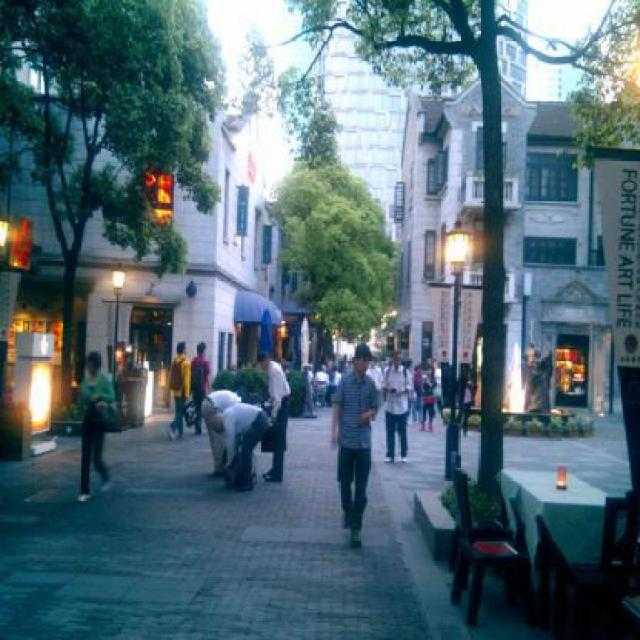Person: (74, 345, 117, 507), (208, 401, 274, 490), (256, 351, 289, 482), (202, 388, 246, 467), (382, 352, 412, 463), (163, 340, 194, 445), (190, 339, 216, 435), (521, 350, 556, 415), (364, 348, 396, 414), (418, 364, 439, 436), (110, 344, 128, 419), (456, 375, 473, 437), (312, 364, 333, 408), (403, 361, 417, 427), (430, 361, 445, 422), (325, 366, 344, 408), (518, 350, 532, 392), (328, 355, 354, 377), (415, 364, 422, 425), (304, 362, 316, 381), (425, 355, 433, 368)
